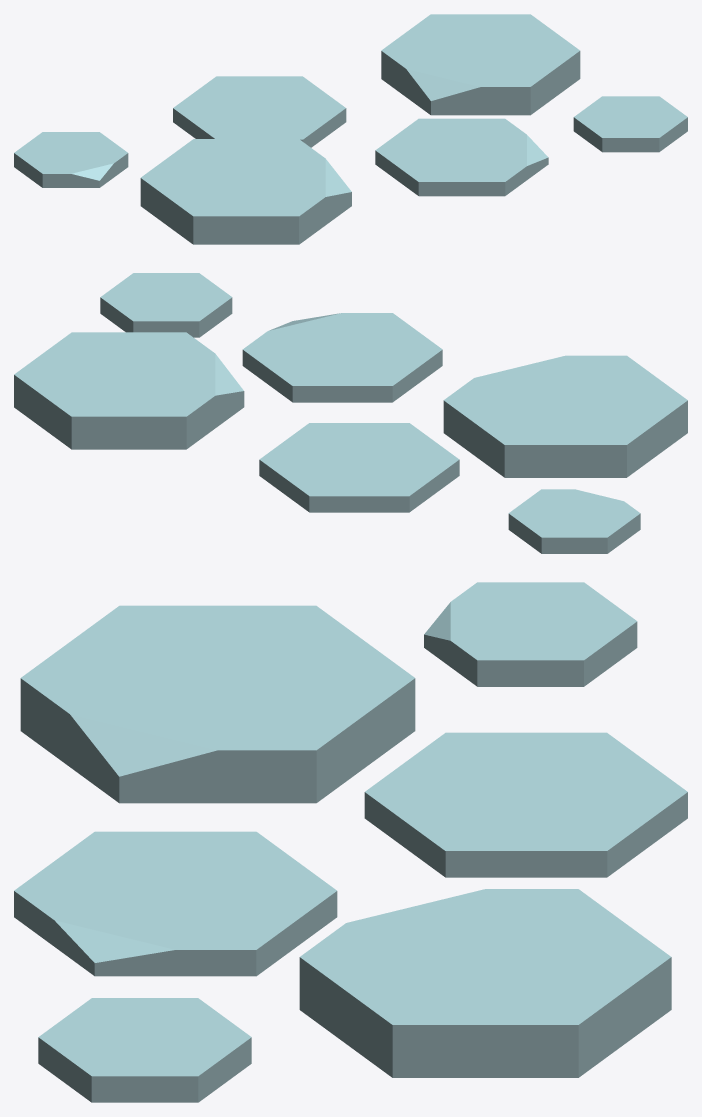
The model's file is path_stone.obj.
The picture shows the model from 3 angles, top to bottom: view 1: azimuth 30°, elevation 25°; view 2: azimuth 150°, elevation 25°; view 3: azimuth 270°, elevation 25°; orthographic projection. The views are drawn at different scales.
Parts seen in each view (by area): view 1: path_stone; view 2: path_stone; view 3: path_stone.
Part boxes in pixels (x1=…): path_stone: x1=14, y1=14, x2=687, y2=244; path_stone: x1=14, y1=273, x2=687, y2=553; path_stone: x1=14, y1=582, x2=687, y2=1102.
Size of the model in its own units: 1 by 0.05 by 0.5766.
